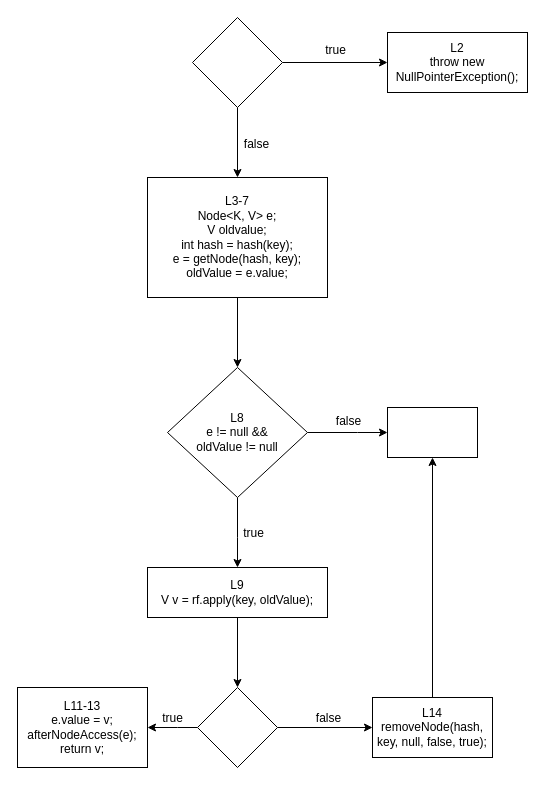
The diagram is 545 pixels wide and 785 high, and some of its shapes have lost their labels. The shapes that lost their labels are listed below. From the top down, each one's centre as x and y in pixels, then its label:
point (237, 62): L1 rf == null
point (432, 432): L15 return null;
point (237, 727): L10 v != null
